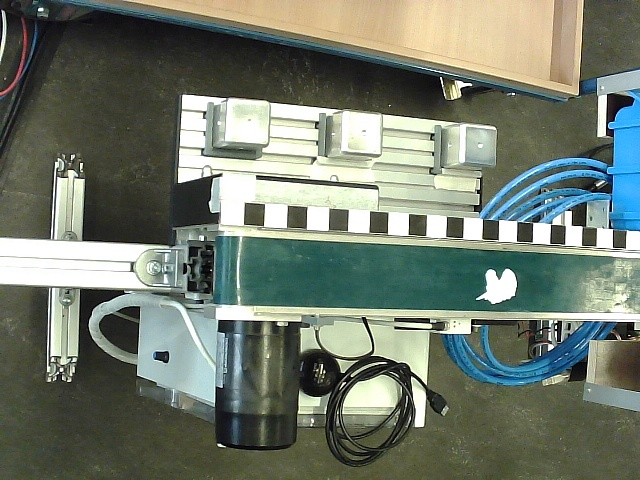unicorn: (475, 268, 518, 305)
